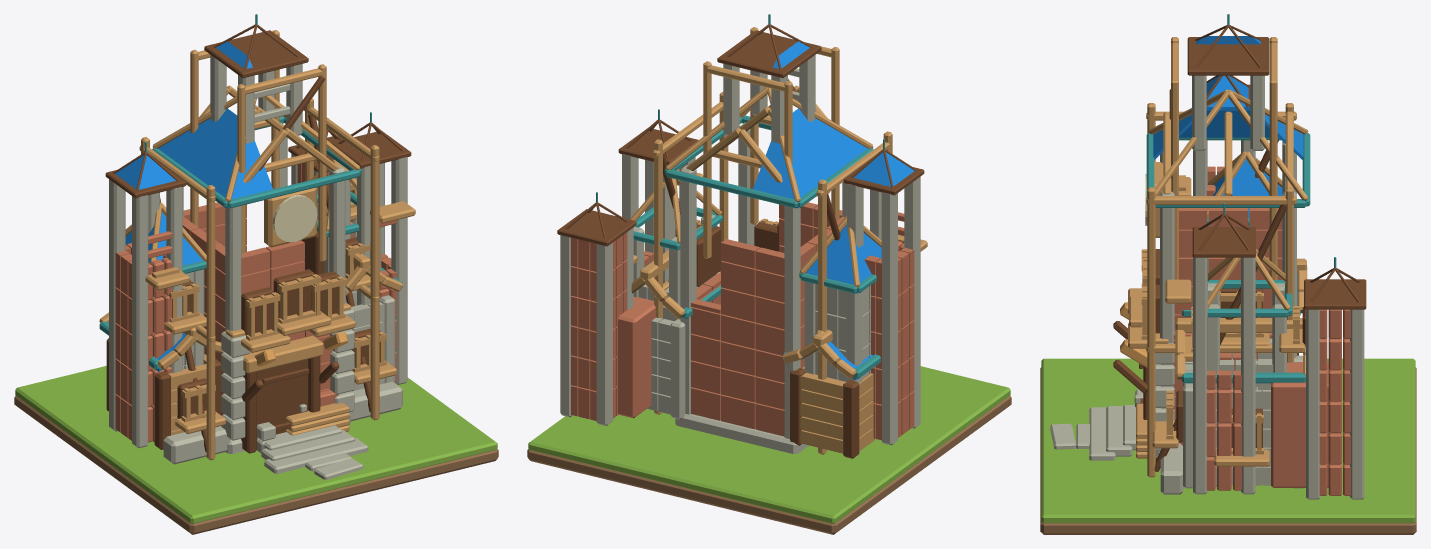
The model's file is town_hall_l12_construction_LOD0.glb.
3 views of the same model, side by side, from view 1: azimuth 30°, elevation 25°; view 2: azimuth 150°, elevation 25°; view 3: azimuth 270°, elevation 25° (orthographic). The views are drawn at different scales.
Visible parts, largest first — view 1: town_hall_l12_construction_grass_tile, town_hall_l12_construction_earth_tile, town_hall_l12_construction_corner_reinforcement.024, town_hall_l12_construction_corner_reinforcement.030, town_hall_l12_construction_scaffold_post, town_hall_l12_construction_scaffold_post.002, town_hall_l12_construction_door_recess, town_hall_l12_construction_corner_reinforcement.025, town_hall_l12_construction_central_spire_cornice, town_hall_l12_construction_hip_roof_shingle.011, town_hall_l12_construction_corner_reinforcement, town_hall_l12_construction_corner_reinforcement.002 (+41 smaller); view 2: town_hall_l12_construction_grass_tile, town_hall_l12_construction_earth_tile, town_hall_l12_construction_corner_reinforcement.025, town_hall_l12_construction_vertical_corner_connector, town_hall_l12_construction_corner_reinforcement.033, town_hall_l12_construction_corner_reinforcement.001, town_hall_l12_construction_corner_reinforcement.003, town_hall_l12_construction_corner_reinforcement.024, town_hall_l12_construction_central_spire_cornice, town_hall_l12_construction_hip_roof_shingle.011, town_hall_l12_construction_corner_reinforcement.035, town_hall_l12_construction_foundation (+59 smaller); view 3: town_hall_l12_construction_grass_tile, town_hall_l12_construction_earth_tile, town_hall_l12_construction_vertical_corner_connector, town_hall_l12_construction_corner_reinforcement.030, town_hall_l12_construction_corner_reinforcement.031, town_hall_l12_construction_corner_reinforcement.035, town_hall_l12_construction_corner_reinforcement.034, town_hall_l12_construction_central_spire_cornice, town_hall_l12_construction_scaffold_post.002, town_hall_l12_construction_corner_reinforcement.002, town_hall_l12_construction_right_spire_cornice, town_hall_l12_construction_rear_right_spire_cornice (+47 smaller).
Boxes of the visible parts, x1,y1,x2,y2 form: town_hall_l12_construction_grass_tile: [15, 366, 497, 523]; town_hall_l12_construction_earth_tile: [14, 395, 498, 534]; town_hall_l12_construction_corner_reinforcement.024: [132, 195, 148, 448]; town_hall_l12_construction_corner_reinforcement.030: [391, 157, 407, 384]; town_hall_l12_construction_scaffold_post: [206, 185, 215, 460]; town_hall_l12_construction_scaffold_post.002: [370, 145, 379, 420]; town_hall_l12_construction_door_recess: [257, 359, 308, 438]; town_hall_l12_construction_corner_reinforcement.025: [109, 179, 125, 431]; town_hall_l12_construction_central_spire_cornice: [204, 30, 308, 78]; town_hall_l12_construction_hip_roof_shingle.011: [158, 131, 233, 207]; town_hall_l12_construction_corner_reinforcement: [225, 205, 241, 439]; town_hall_l12_construction_corner_reinforcement.002: [329, 165, 345, 303]; town_hall_l12_construction_grass_tile: [528, 366, 1010, 523]; town_hall_l12_construction_earth_tile: [527, 395, 1011, 534]; town_hall_l12_construction_corner_reinforcement.025: [881, 192, 897, 445]; town_hall_l12_construction_vertical_corner_connector: [617, 297, 655, 418]; town_hall_l12_construction_corner_reinforcement.033: [596, 242, 612, 425]; town_hall_l12_construction_corner_reinforcement.001: [784, 205, 800, 438]; town_hall_l12_construction_corner_reinforcement.003: [680, 165, 696, 414]; town_hall_l12_construction_corner_reinforcement.024: [904, 176, 920, 428]; town_hall_l12_construction_central_spire_cornice: [717, 30, 821, 78]; town_hall_l12_construction_hip_roof_shingle.011: [792, 131, 867, 207]; town_hall_l12_construction_corner_reinforcement.035: [560, 235, 572, 417]; town_hall_l12_construction_foundation: [675, 414, 808, 453]; town_hall_l12_construction_grass_tile: [1041, 358, 1415, 523]; town_hall_l12_construction_earth_tile: [1040, 367, 1416, 534]; town_hall_l12_construction_vertical_corner_connector: [1271, 362, 1328, 487]; town_hall_l12_construction_corner_reinforcement.030: [1193, 257, 1207, 494]; town_hall_l12_construction_corner_reinforcement.031: [1241, 257, 1255, 494]; town_hall_l12_construction_corner_reinforcement.035: [1350, 309, 1364, 499]; town_hall_l12_construction_corner_reinforcement.034: [1306, 309, 1320, 499]; town_hall_l12_construction_central_spire_cornice: [1187, 37, 1269, 75]; town_hall_l12_construction_scaffold_post.002: [1147, 187, 1155, 477]; town_hall_l12_construction_corner_reinforcement.002: [1160, 191, 1174, 451]; town_hall_l12_construction_right_spire_cornice: [1192, 227, 1255, 257]; town_hall_l12_construction_rear_right_spire_cornice: [1304, 279, 1366, 309].
Size of the model in its own units: 3.6 by 4.67 by 3.6.
